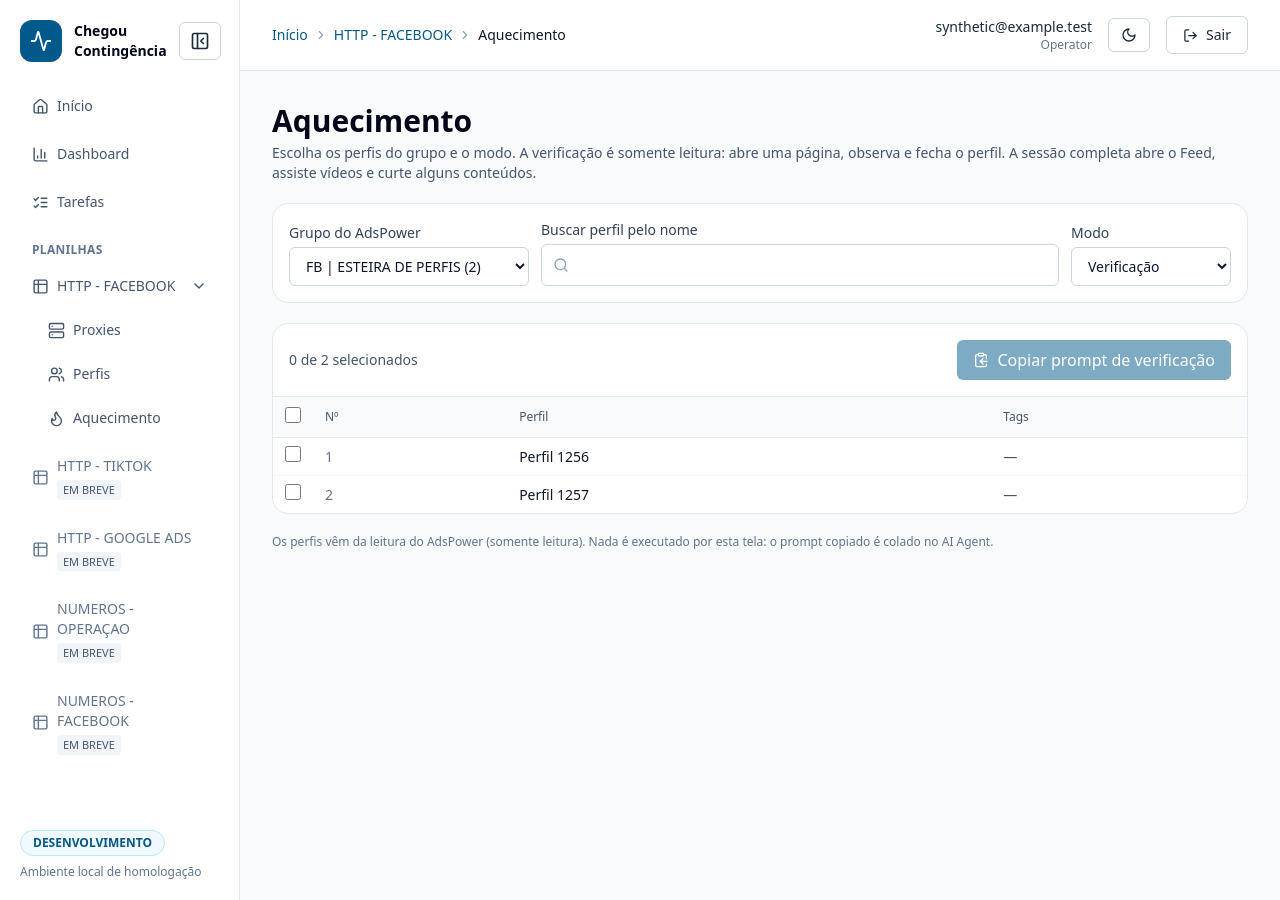
Test: selecionar todos marca os perfis listados
This screenshot has width=1280, height=900.
Check: the table is shown, box x1=273 y1=396 x2=1247 y2=513
Click the checkbox named "Selecionar todos os perfis listados".
click(293, 415)  # box x1=285 y1=407 x2=301 y2=423
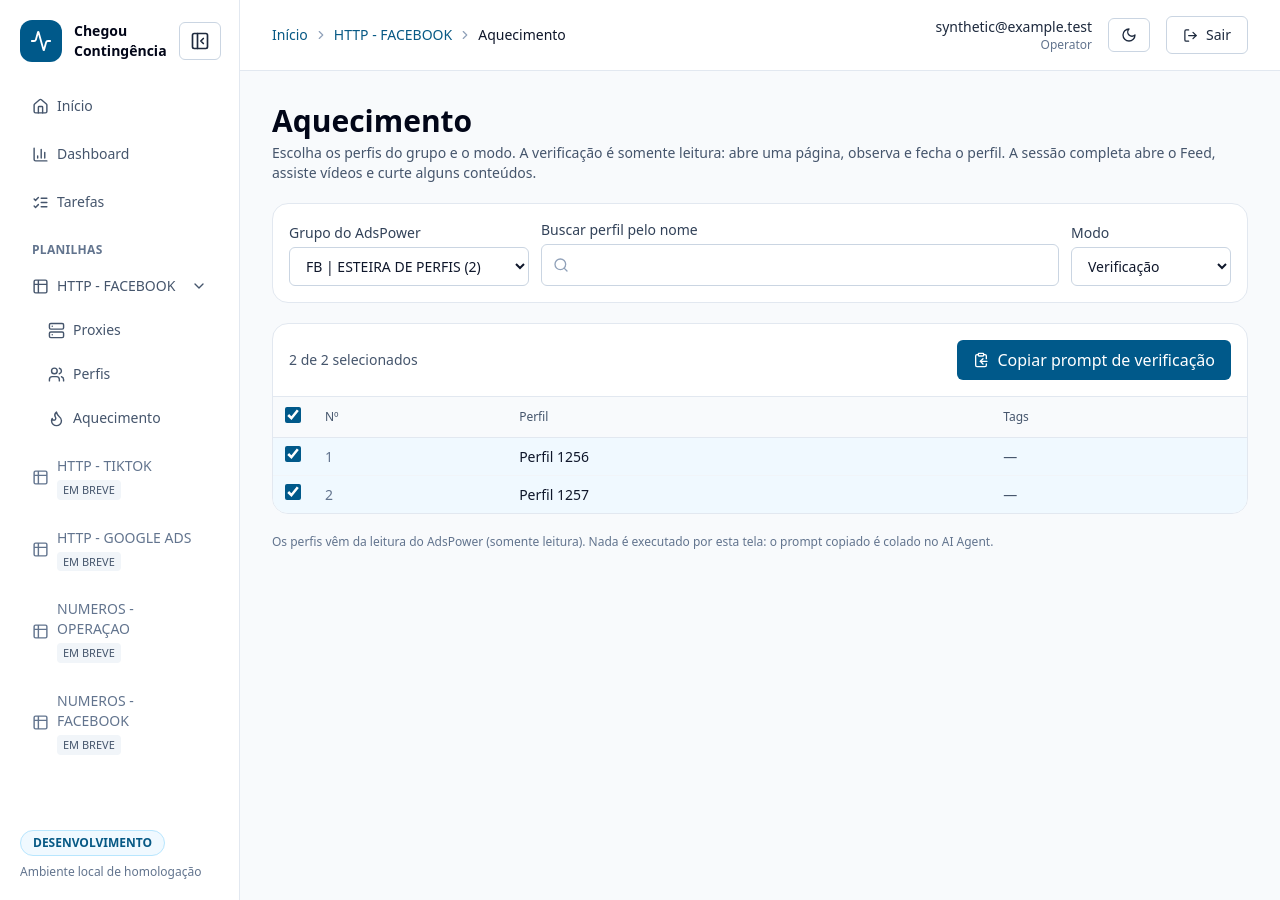
Check: the message reads "2 de 2 selecionados", box x1=289 y1=350 x2=418 y2=370
